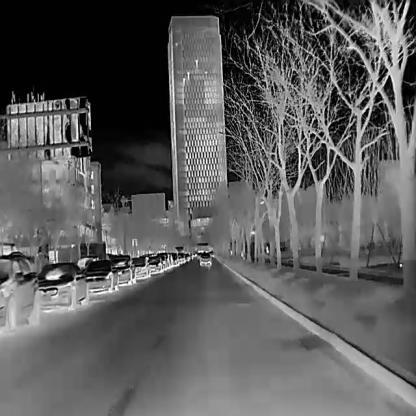car: (0, 249, 39, 330), (37, 261, 88, 310), (83, 258, 120, 292), (109, 254, 137, 285), (129, 255, 151, 280), (147, 253, 163, 274), (198, 250, 211, 268)
